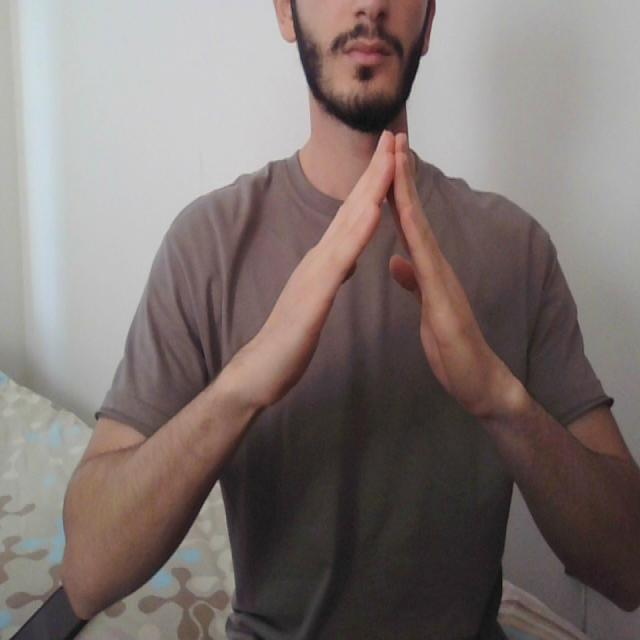Ev: (213, 126, 516, 430)
